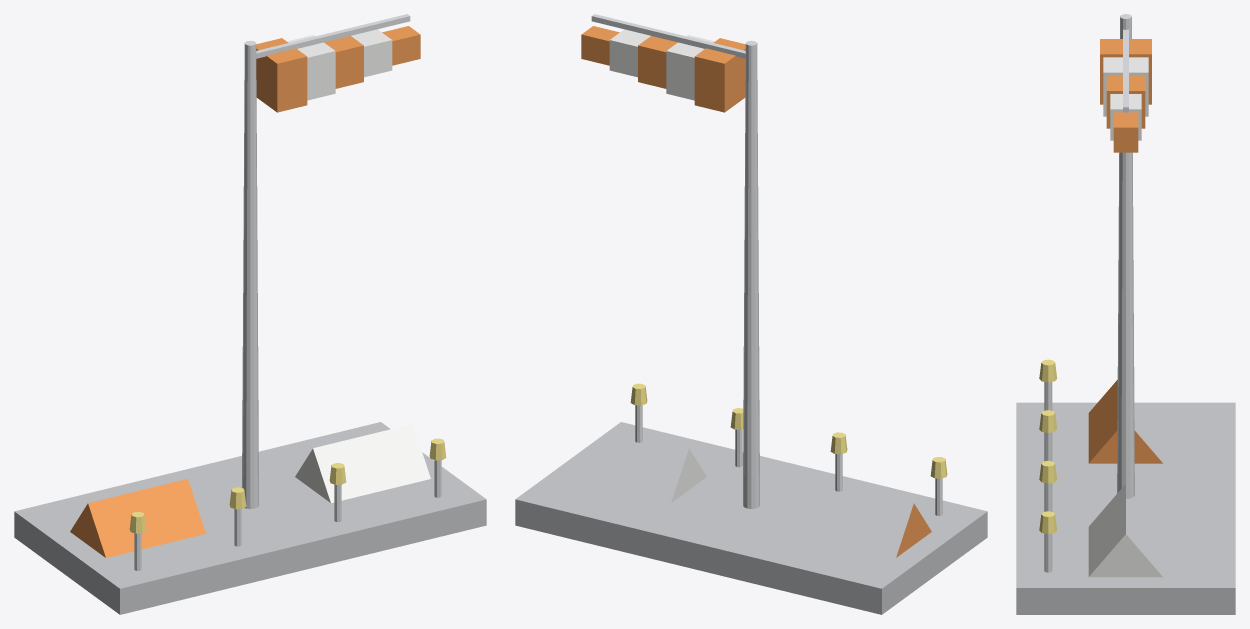
File: prop_29_cam_ly_airstrip_windsock_beacon_and_runway_marker_kit.glb
3 renders of one model, left to right at view 1: azimuth 30°, elevation 25°; view 2: azimuth 150°, elevation 25°; view 3: azimuth 270°, elevation 25°, orthographic. The views are drawn at different scales.
Visible parts, largest first — view 1: prop_29_cam_ly_airstrip_windsock_beacon_and_runway_marker_ki; view 2: prop_29_cam_ly_airstrip_windsock_beacon_and_runway_marker_ki; view 3: prop_29_cam_ly_airstrip_windsock_beacon_and_runway_marker_ki.
Boxes of the visible parts, left/top/right/bottom form: prop_29_cam_ly_airstrip_windsock_beacon_and_runway_marker_ki: left=14, top=14, right=486, bottom=614; prop_29_cam_ly_airstrip_windsock_beacon_and_runway_marker_ki: left=515, top=14, right=987, bottom=614; prop_29_cam_ly_airstrip_windsock_beacon_and_runway_marker_ki: left=1016, top=14, right=1235, bottom=614.
Size of the model in its own units: 4.4 by 5.6 by 2.2.
